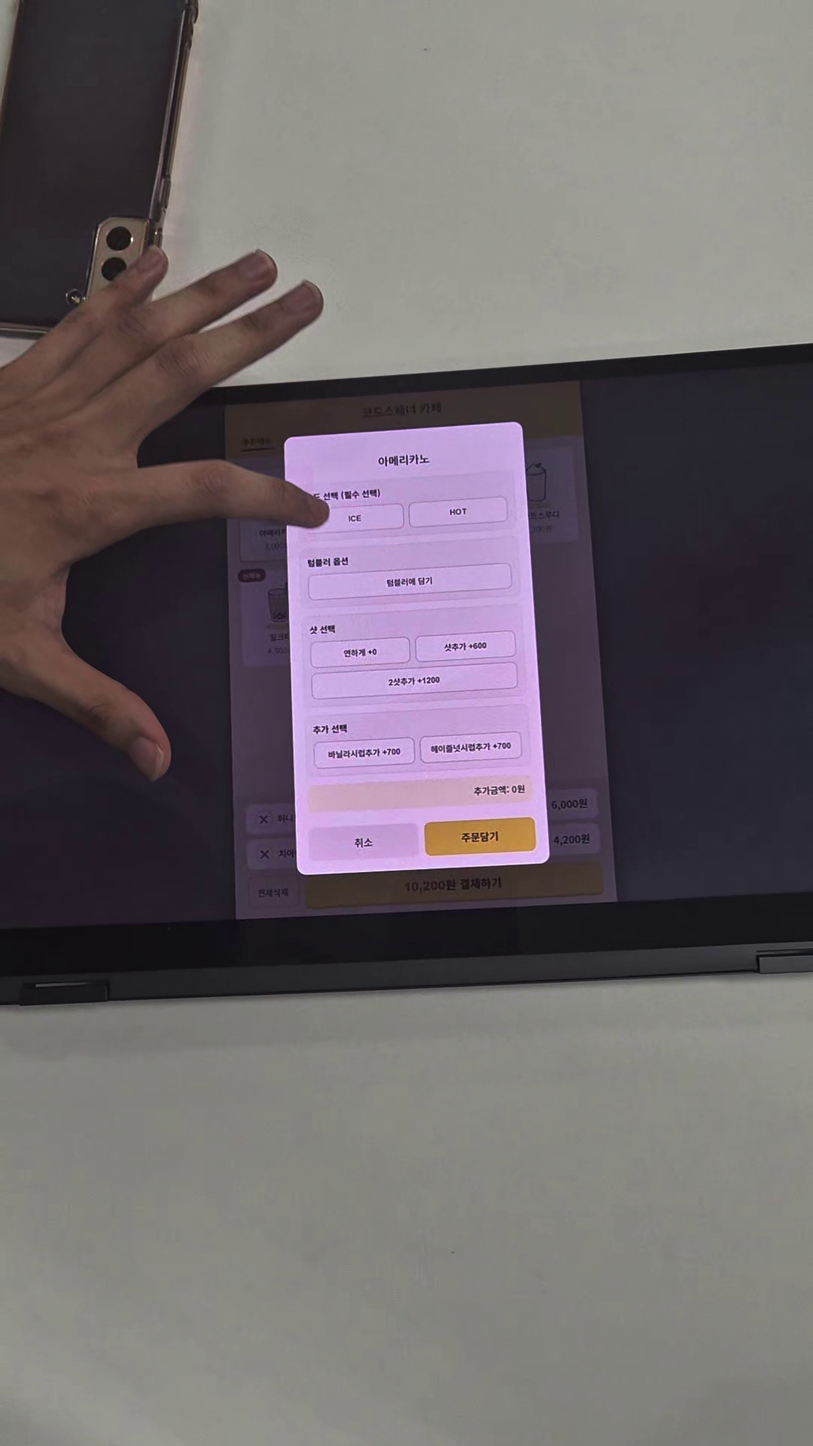action_button: (304, 863, 603, 908), (306, 822, 419, 862), (423, 817, 537, 856), (248, 877, 299, 908)
menu_price: (549, 797, 589, 812), (553, 833, 592, 846)
option_button: (311, 661, 518, 700), (415, 630, 516, 663), (419, 731, 523, 763), (408, 496, 508, 528), (315, 737, 415, 769), (311, 637, 410, 668), (305, 504, 404, 534)
popup_modal: (284, 421, 551, 875)
